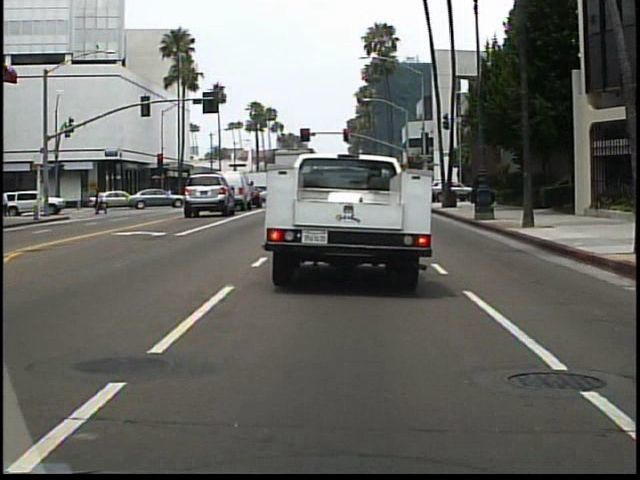person: (2, 186, 12, 223)
